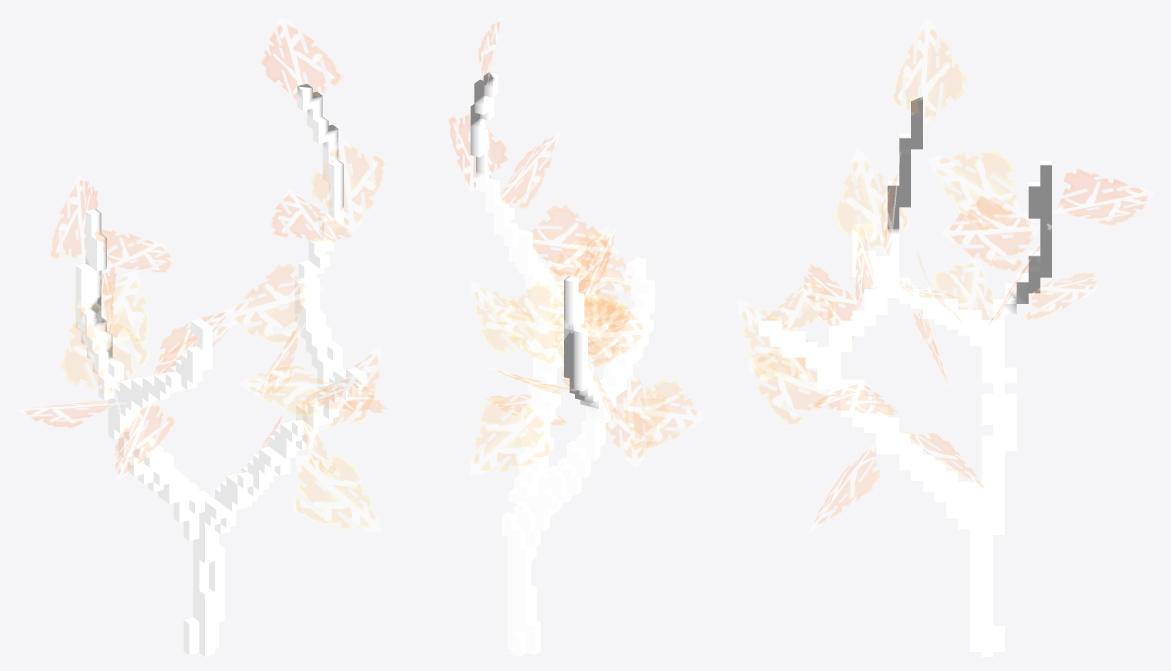
The model's file is tree.glb.
The picture shows the model from 3 angles, left to right: view 1: azimuth 30°, elevation 25°; view 2: azimuth 150°, elevation 25°; view 3: azimuth 270°, elevation 25°; orthographic projection. The views are drawn at different scales.
Parts seen in each view (by area): view 1: tree_0, pPlane3.011_11, pPlane3.003_3, pPlane3.014_14, pPlane3.017_17, pPlane3.016_16, pPlane3.012_12, pPlane3.015_15, pPlane3.020_20, pPlane3.002_2, pPlane3.006_6, pPlane3.005_5 (+8 smaller); view 2: tree_0, pPlane3.010_10, pPlane3.006_6, pPlane3.018_18, pPlane3.014_14, pPlane3.013_13, pPlane3.004_4, pPlane3.002_2, pPlane3.008_8, pPlane3.001_1, pPlane3.015_15, pPlane3.016_16 (+6 smaller); view 3: tree_0, pPlane3.005_5, pPlane3.017_17, pPlane3.004_4, pPlane3.015_15, pPlane3.009_9, pPlane3.006_6, pPlane3.007_7, pPlane3.018_18, pPlane3.011_11, pPlane3.012_12, pPlane3.013_13 (+5 smaller).
Part boxes in pixels (x1=…): tree_0: x1=75, y1=84, x2=367, y2=656; pPlane3.011_11: x1=293, y1=452, x2=381, y2=531; pPlane3.003_3: x1=59, y1=296, x2=150, y2=416; pPlane3.014_14: x1=225, y1=263, x2=323, y2=345; pPlane3.017_17: x1=261, y1=17, x2=343, y2=119; pPlane3.016_16: x1=311, y1=126, x2=386, y2=232; pPlane3.012_12: x1=238, y1=364, x2=345, y2=418; pPlane3.015_15: x1=271, y1=189, x2=351, y2=252; pPlane3.020_20: x1=70, y1=270, x2=149, y2=343; pPlane3.002_2: x1=115, y1=396, x2=176, y2=481; pPlane3.006_6: x1=48, y1=176, x2=97, y2=265; pPlane3.005_5: x1=95, y1=228, x2=171, y2=272; tree_0: x1=470, y1=72, x2=655, y2=656; pPlane3.010_10: x1=470, y1=394, x2=552, y2=474; pPlane3.006_6: x1=488, y1=281, x2=579, y2=367; pPlane3.018_18: x1=612, y1=380, x2=703, y2=452; pPlane3.014_14: x1=531, y1=205, x2=618, y2=277; pPlane3.013_13: x1=538, y1=233, x2=630, y2=308; pPlane3.004_4: x1=562, y1=293, x2=650, y2=366; pPlane3.002_2: x1=606, y1=375, x2=670, y2=467; pPlane3.008_8: x1=470, y1=281, x2=535, y2=353; pPlane3.001_1: x1=549, y1=287, x2=627, y2=374; pPlane3.015_15: x1=487, y1=132, x2=560, y2=212; pPlane3.016_16: x1=448, y1=101, x2=507, y2=193; tree_0: x1=758, y1=96, x2=1051, y2=656; pPlane3.005_5: x1=927, y1=149, x2=1035, y2=233; pPlane3.017_17: x1=891, y1=17, x2=966, y2=142; pPlane3.004_4: x1=942, y1=196, x2=1052, y2=274; pPlane3.015_15: x1=832, y1=148, x2=910, y2=271; pPlane3.009_9: x1=747, y1=339, x2=849, y2=427; pPlane3.006_6: x1=1052, y1=169, x2=1153, y2=225; pPlane3.007_7: x1=737, y1=300, x2=822, y2=391; pPlane3.018_18: x1=932, y1=259, x2=992, y2=319; pPlane3.011_11: x1=809, y1=438, x2=879, y2=531; pPlane3.012_12: x1=763, y1=277, x2=836, y2=330; pPlane3.013_13: x1=801, y1=264, x2=863, y2=341.
Size of the model in its own units: 3.3 by 5.97 by 3.45.
2 materials, 1 textured.
